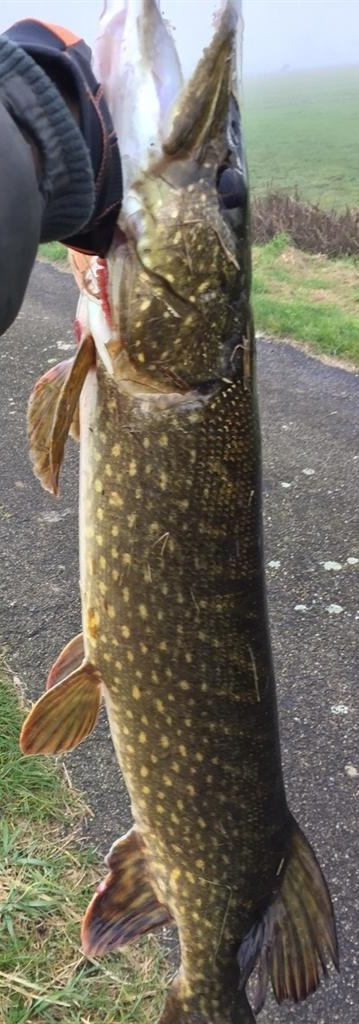Esox lucius: (20, 1, 339, 1024)
